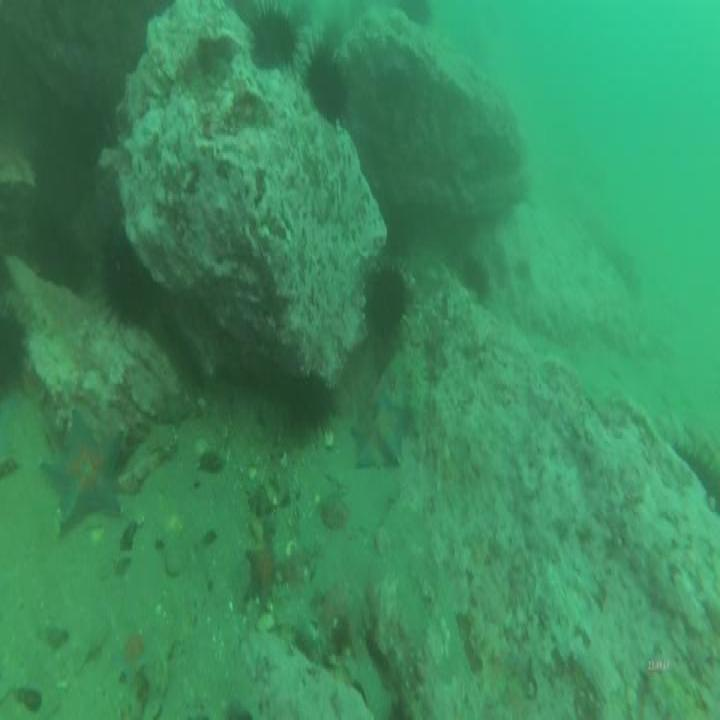echinus: (97, 230, 153, 324), (302, 37, 349, 128), (672, 437, 720, 521), (249, 0, 298, 78), (363, 260, 411, 338), (286, 371, 337, 441), (35, 228, 86, 294), (0, 307, 32, 409), (459, 252, 493, 310), (396, 0, 436, 36)
starfish: (39, 404, 129, 546), (346, 377, 411, 480), (239, 532, 284, 615), (111, 620, 160, 692)
